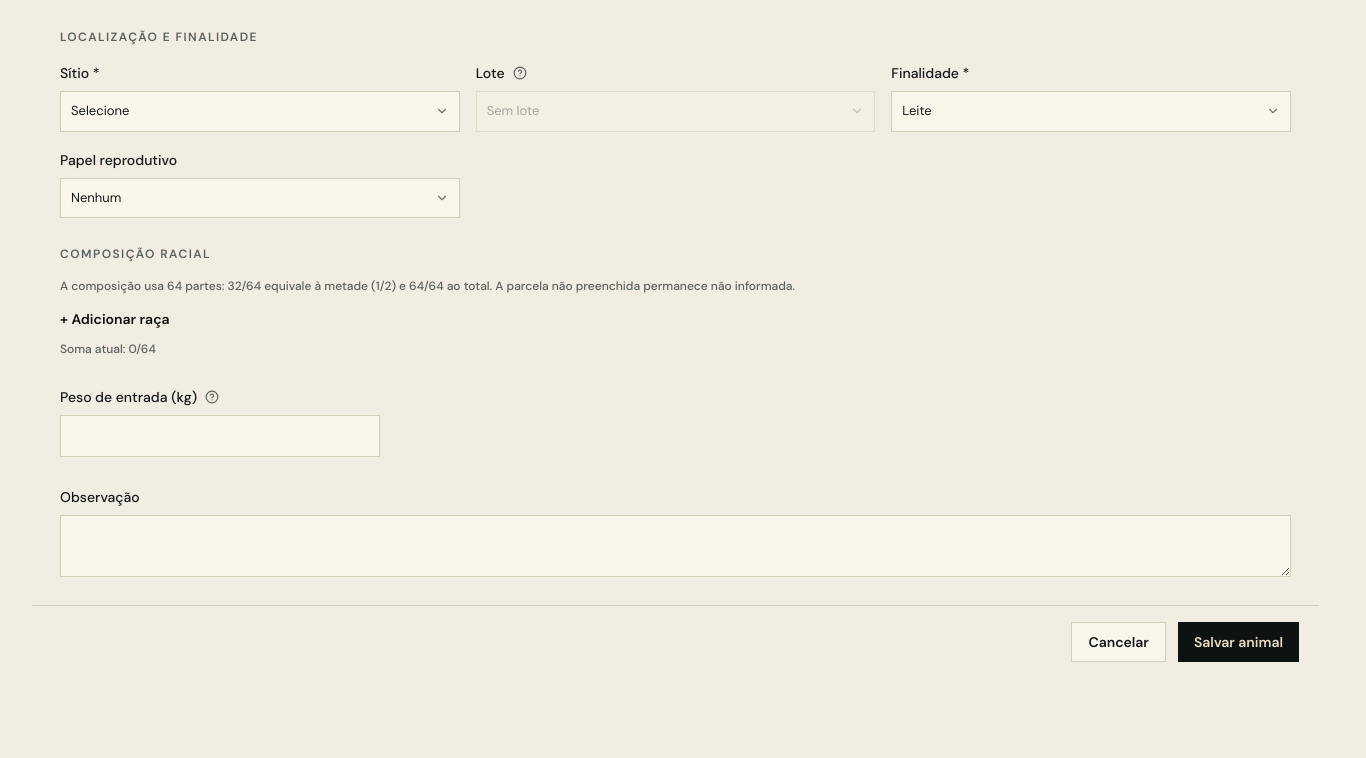
Test: NovoAnimal › mostra erros de validação ao submeter sem brinco, nascimento ou sítio
(page scrolled)
Expected: the dropdown named "Sítio" is shown, [60,91,460,132]
Click the button "Salvar animal": (1238, 642) [1178,622,1299,662]
(page scrolled)
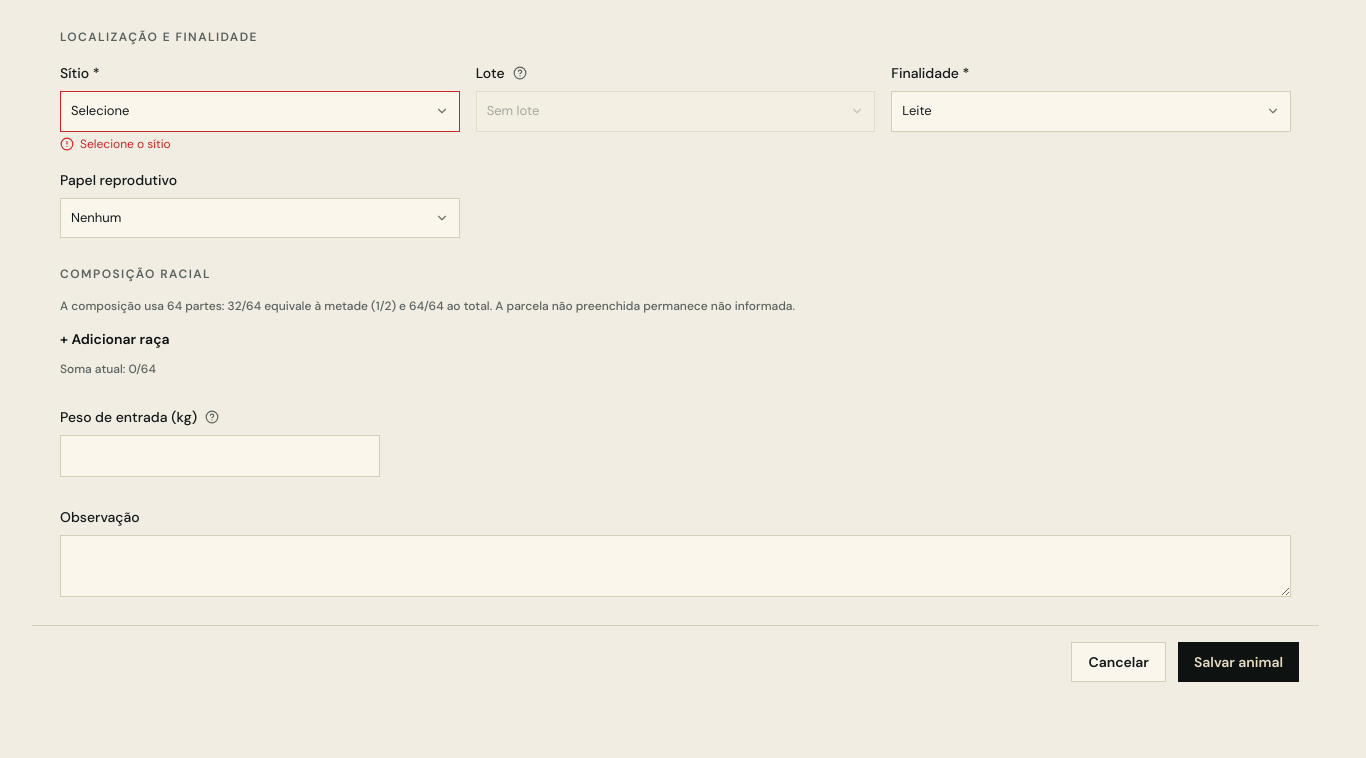
Now the text "Selecione o sítio" is shown, box [60,136,171,152]
